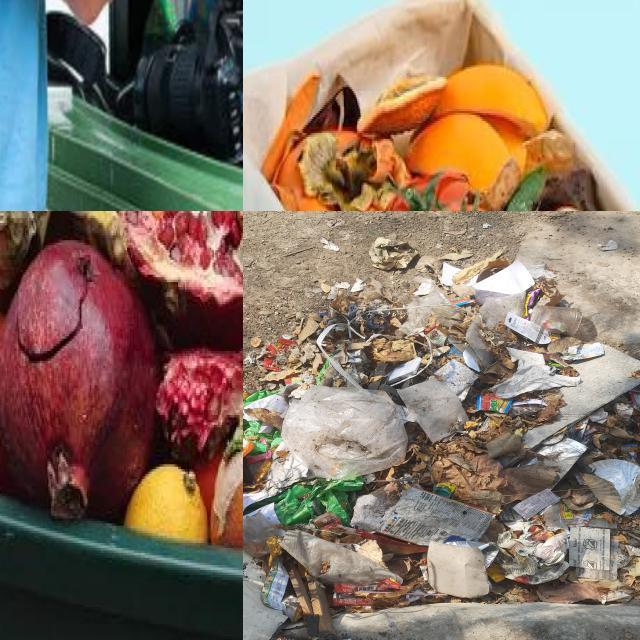Cig_pack: (388, 358, 421, 383)
Disposable: (243, 511, 285, 558), (530, 304, 583, 336)
E_waste: (133, 0, 243, 159), (47, 11, 105, 88)
Garbage: (243, 250, 640, 640), (0, 211, 243, 546), (243, 0, 627, 211), (47, 0, 243, 164)
Plastic: (433, 483, 455, 498)
Plastic_Bag: (281, 387, 408, 479), (466, 291, 526, 369), (399, 377, 468, 443), (274, 477, 362, 527), (399, 287, 451, 335), (575, 542, 627, 580), (243, 411, 283, 454), (543, 504, 591, 529), (526, 264, 556, 278), (586, 517, 616, 529), (414, 277, 433, 285)
Plastic_wraper: (380, 487, 494, 550), (517, 438, 586, 487), (332, 579, 405, 606), (263, 338, 296, 372), (476, 395, 511, 414), (311, 511, 341, 529), (279, 375, 304, 396), (425, 327, 446, 346), (244, 451, 272, 464), (621, 443, 638, 462), (627, 388, 640, 406), (451, 296, 474, 306)
